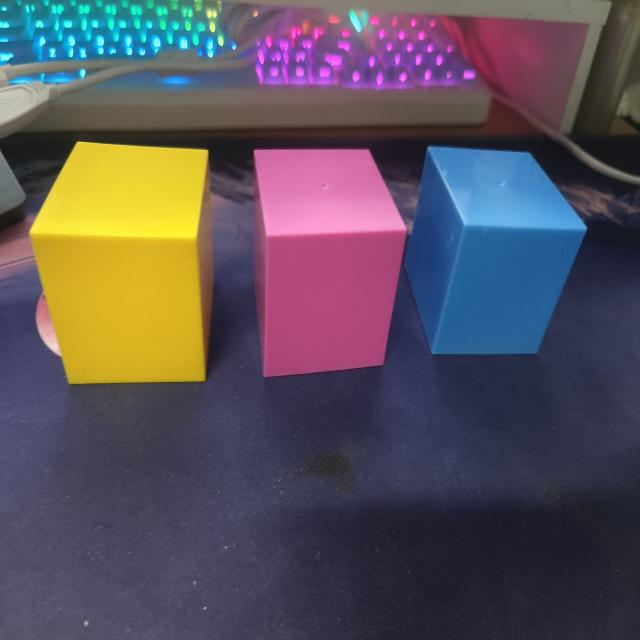blue: (404, 145, 587, 359)
pink: (252, 146, 409, 381)
yellow: (29, 139, 216, 387)
